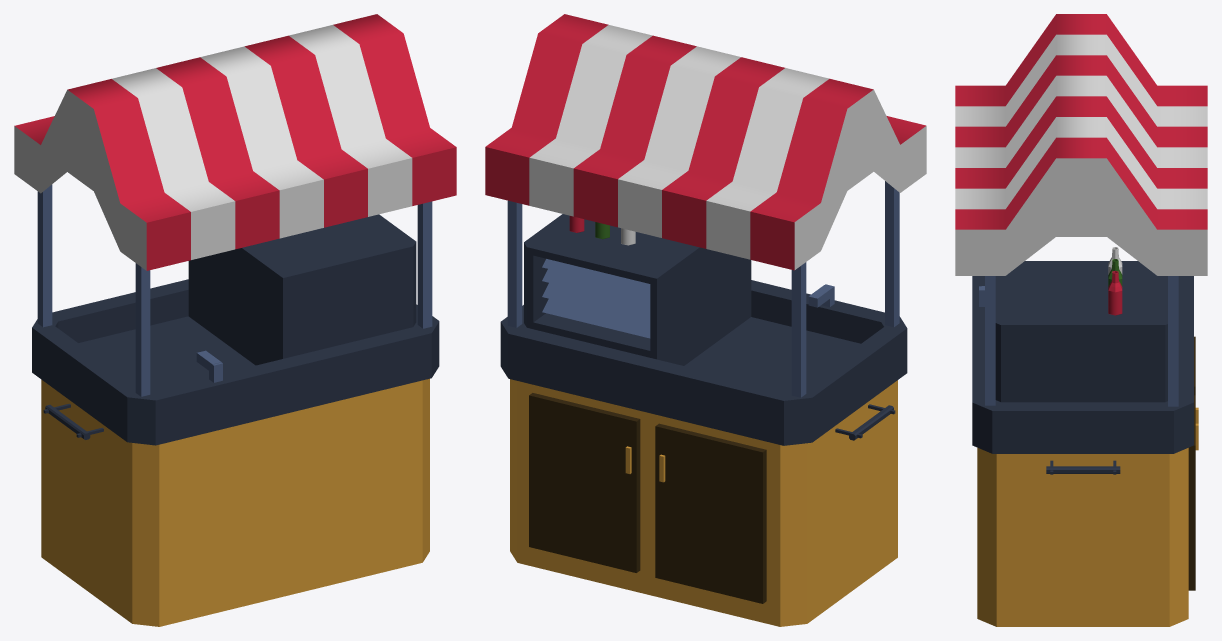
File: HotDogTent1.FBX
3 views of the same model, side by side, from view 1: azimuth 30°, elevation 25°; view 2: azimuth 150°, elevation 25°; view 3: azimuth 270°, elevation 25° (orthographic). The views are drawn at different scales.
Visible parts, largest first — view 1: HotDogTent001; view 2: HotDogTent001; view 3: HotDogTent001.
Part boxes in pixels (x1=…): HotDogTent001: x1=14, y1=14, x2=456, y2=626; HotDogTent001: x1=485, y1=14, x2=926, y2=626; HotDogTent001: x1=955, y1=14, x2=1207, y2=626.
Size of the model in its own units: 13.66 by 18.53 by 9.01.
